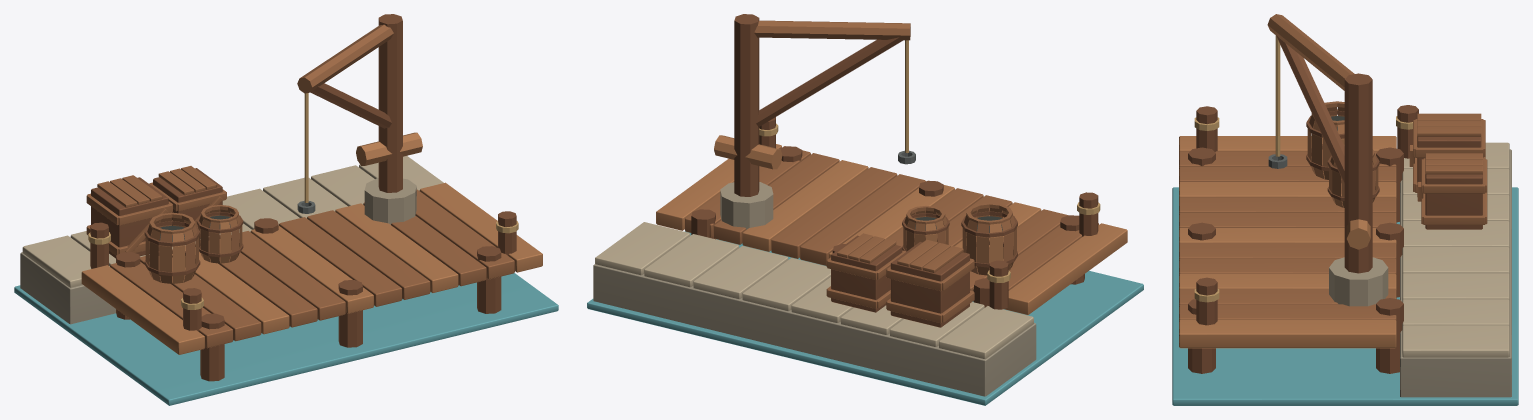
The model's file is dock.glb.
3 renders of one model, left to right at view 1: azimuth 30°, elevation 25°; view 2: azimuth 150°, elevation 25°; view 3: azimuth 270°, elevation 25°, orthographic. The views are drawn at different scales.
Visible parts, largest first — view 1: dock; view 2: dock; view 3: dock.
Part boxes in pixels (bbox=[...]): dock: bbox=[14, 14, 558, 405]; dock: bbox=[587, 14, 1143, 405]; dock: bbox=[1172, 14, 1518, 405].
Size of the model in its own units: 3.05 by 1.88 by 2.1.
